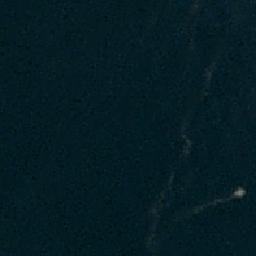debris: (190, 187, 246, 215)
